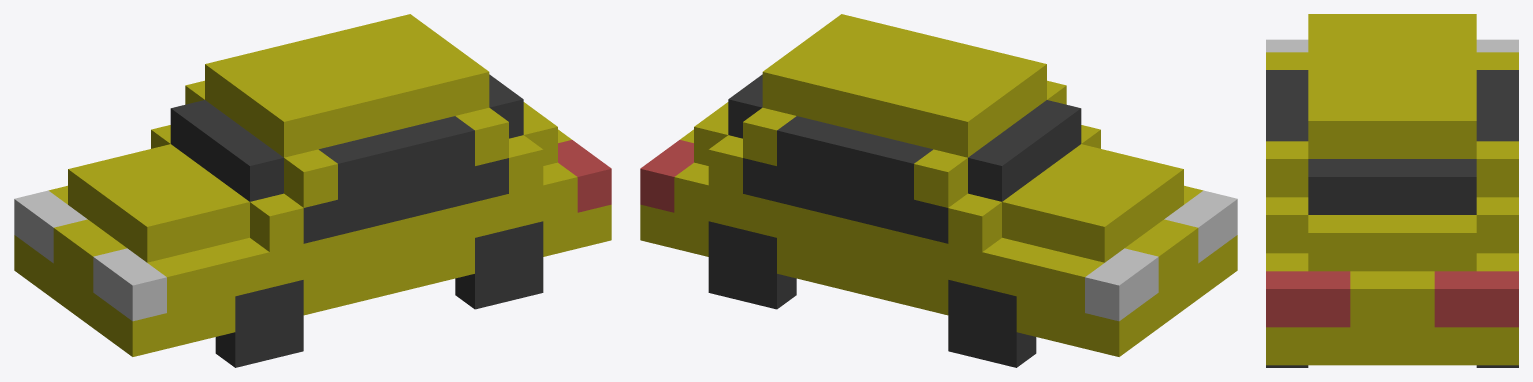
File: car-v2-yellow.gltf
3 renders of one model, left to right at view 1: azimuth 30°, elevation 25°; view 2: azimuth 150°, elevation 25°; view 3: azimuth 270°, elevation 25°, orthographic. The views are drawn at different scales.
Visible parts, largest first — view 1: model, wheels; view 2: model, wheels; view 3: model, wheels.
Boxes of the visible parts, <box> form: model: <box>14,14,611,356</box>; wheels: <box>215,221,543,367</box>; model: <box>640,14,1237,356</box>; wheels: <box>708,221,1036,367</box>; model: <box>1266,14,1518,365</box>; wheels: <box>1266,365,1518,367</box>.
Size of the model in its own units: 1.4 by 0.6 by 0.6.
2 materials, 2 textured.
